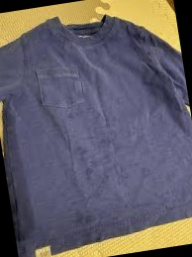oil: (82, 157, 101, 181), (62, 109, 81, 123)
